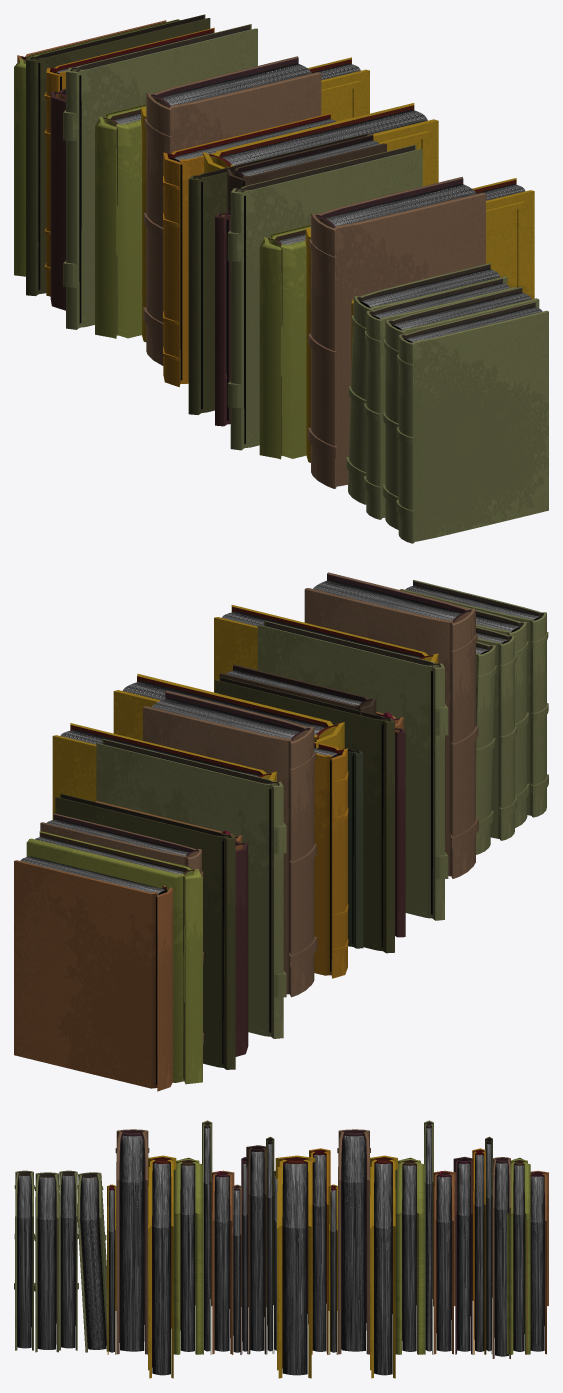
Rendered from Shelf16.fbx.
The picture shows the model from 3 angles, top to bottom: view 1: azimuth 30°, elevation 25°; view 2: azimuth 150°, elevation 25°; view 3: azimuth 270°, elevation 25°; orthographic projection. The views are drawn at different scales.
Visible parts, largest first — view 1: pCube71 (×2), pCube113, pCube14 (×2), pCube11 (×3), pCube67 (×2), pCube12 (×3), pCube15 (×2), pCube69 (×2), pCube116, pCube115, pCube112, pages13 (×2) (+10 smaller); view 2: pCube14 (×2), pCube71 (×3), pCube72, pCube67 (×2), pCube12 (×3), pCube11, pCube15, pCube69 (×2), pCube113, pages13 (×3), pCube116, pCube115 (+9 smaller); view 3: pages14 (×3), pages13 (×3), pCube11 (×3), pages17 (×3), pages15 (×3), pCube12 (×3), pages11 (×2), pCube71 (×3), pCube72 (×3), pages9 (×2), pages36, pages16 (×2) (+19 smaller).
Boxes of the visible parts, <box> form: pCube71 (×2): <box>143,56,485,488</box>; pCube113: <box>396,301,548,543</box>; pCube14 (×2): <box>63,24,422,450</box>; pCube11 (×3): <box>14,19,310,459</box>; pCube67 (×2): <box>26,14,367,414</box>; pCube12 (×3): <box>141,57,534,462</box>; pCube15 (×2): <box>44,27,330,387</box>; pCube69 (×2): <box>50,88,230,426</box>; pCube116: <box>364,277,515,519</box>; pCube115: <box>346,263,507,504</box>; pCube112: <box>382,286,539,529</box>; pages13 (×2): <box>161,63,476,225</box>; pCube14 (×2): <box>96,620,448,1038</box>; pCube71 (×3): <box>40,572,478,1045</box>; pCube72: <box>14,860,172,1091</box>; pCube67 (×2): <box>55,677,394,1069</box>; pCube12 (×3): <box>52,605,438,819</box>; pCube11: <box>26,831,202,1084</box>; pCube15: <box>314,742,348,978</box>; pCube69 (×2): <box>235,728,405,1056</box>; pCube113: <box>400,580,548,817</box>; pages13 (×3): <box>47,579,461,855</box>; pCube116: <box>476,626,516,840</box>; pCube115: <box>476,641,497,854</box>; pages14 (×3): <box>152,1163,392,1375</box>; pages13 (×3): <box>120,1135,508,1356</box>; pCube11 (×3): <box>173,1157,530,1354</box>; pages17 (×3): <box>214,1176,544,1351</box>; pages15 (×3): <box>180,1165,524,1351</box>; pCube12 (×3): <box>148,1155,397,1378</box>; pages11 (×2): <box>312,1154,484,1351</box>; pCube71 (×3): <box>115,1129,510,1358</box>; pCube72 (×3): <box>211,1170,548,1354</box>; pages9 (×2): <box>242,1163,470,1351</box>; pages36: <box>80,1177,106,1349</box>; pages16 (×2): <box>204,1128,431,1351</box>.
Bounding box in the file's own units: 1.09 × 1.07 × 2.84.
